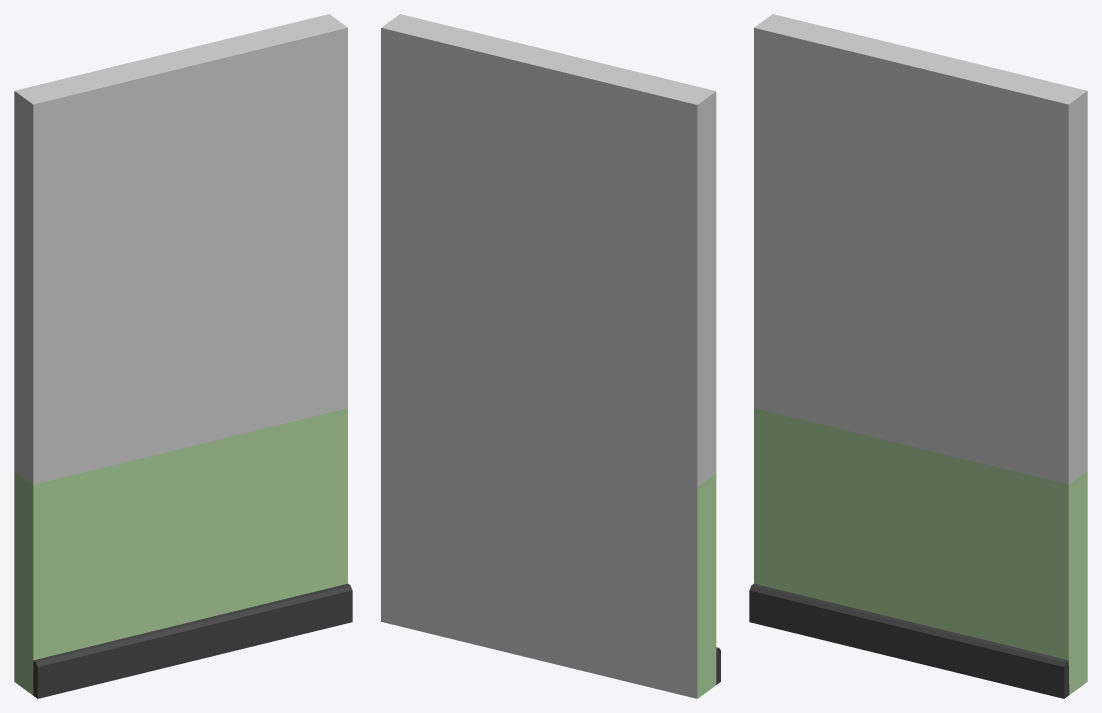
The model's file is School_Cornor2.fbx.
The picture shows the model from 3 angles, left to right: view 1: azimuth 30°, elevation 25°; view 2: azimuth 150°, elevation 25°; view 3: azimuth 330°, elevation 25°; orthographic projection.
Parts seen in each view (by area): view 1: School_Cornor; view 2: School_Cornor; view 3: School_Cornor.
Part boxes in pixels (bbox=[...]): School_Cornor: bbox=[14, 14, 352, 698]; School_Cornor: bbox=[381, 14, 720, 698]; School_Cornor: bbox=[749, 14, 1087, 698].
Bounding box in the file's own units: 139 × 250 × 17.83.
